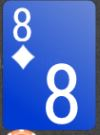Diamond: (11, 44, 36, 70)
